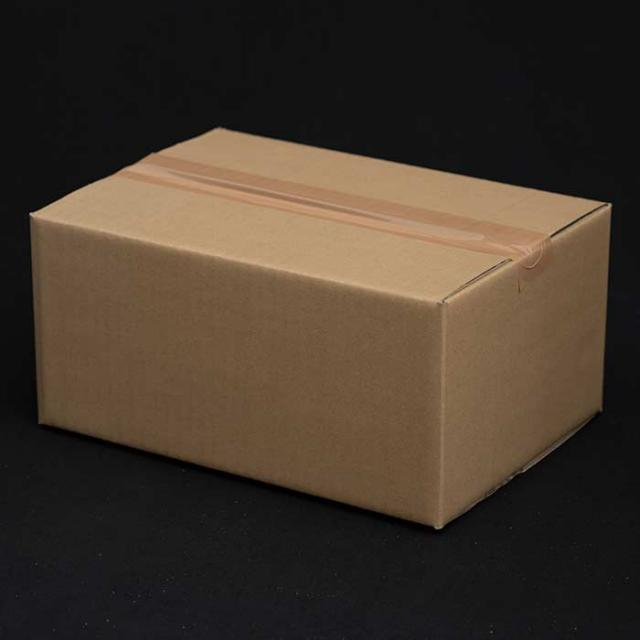-: (25, 128, 616, 534)
